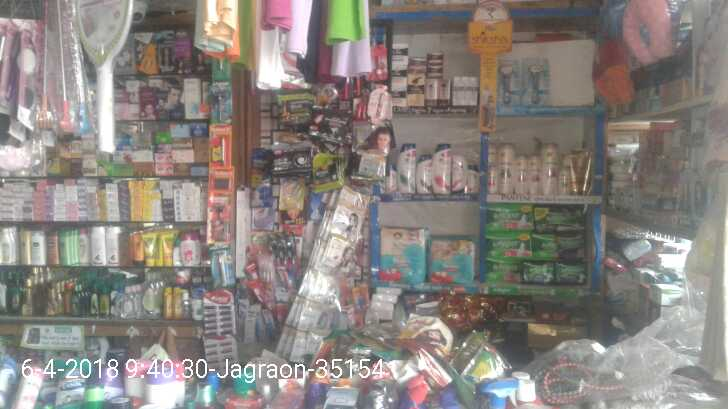gillete: (209, 80, 233, 126), (208, 193, 230, 241), (210, 127, 234, 169), (280, 92, 313, 122), (210, 246, 233, 285), (209, 171, 234, 191)
venus: (521, 56, 550, 107), (496, 59, 520, 106)
